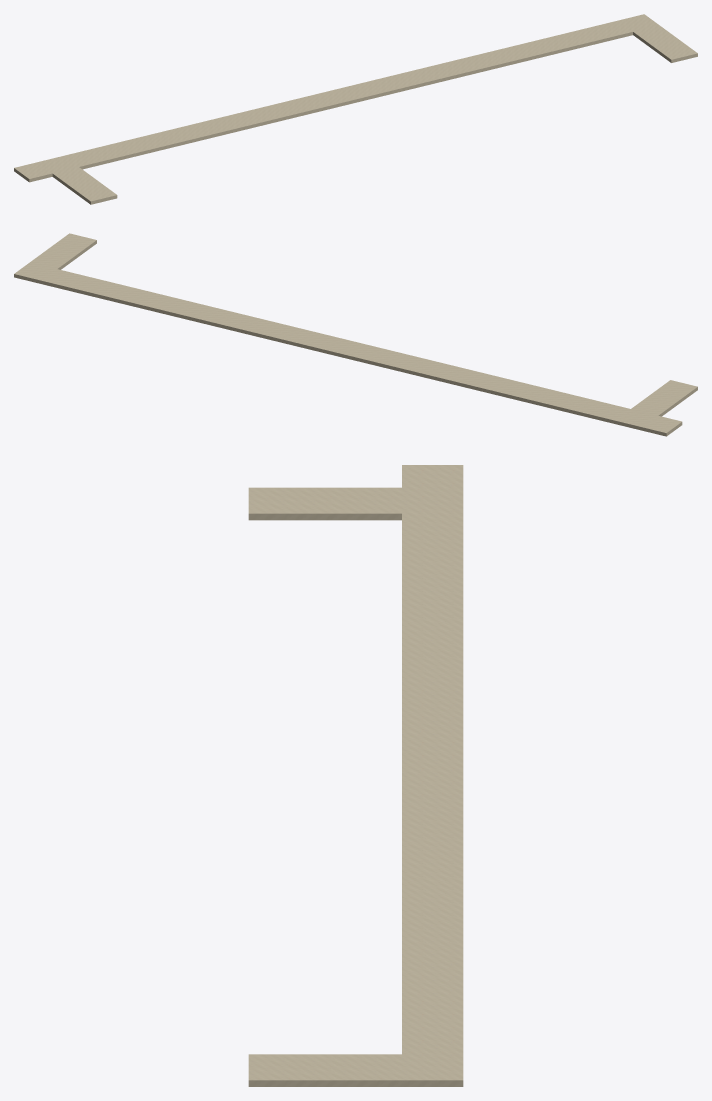
The model's file is STAFFLINK_D09_SF404__floor.glb.
3 views of the same model, one above another, from view 1: azimuth 30°, elevation 25°; view 2: azimuth 150°, elevation 25°; view 3: azimuth 270°, elevation 25° (orthographic). The views are drawn at different scales.
Parts seen in each view (by area): view 1: STAFFLINK_D09_SF404__floor__warm_stone; view 2: STAFFLINK_D09_SF404__floor__warm_stone; view 3: STAFFLINK_D09_SF404__floor__warm_stone.
Part boxes in pixels (<box>): STAFFLINK_D09_SF404__floor__warm_stone: <box>14,14,697,204</box>; STAFFLINK_D09_SF404__floor__warm_stone: <box>14,233,697,436</box>; STAFFLINK_D09_SF404__floor__warm_stone: <box>248,465,463,1086</box>.
Bounding box in the file's own units: 47.5 × 0.24 × 7.
1 material, 1 textured.
